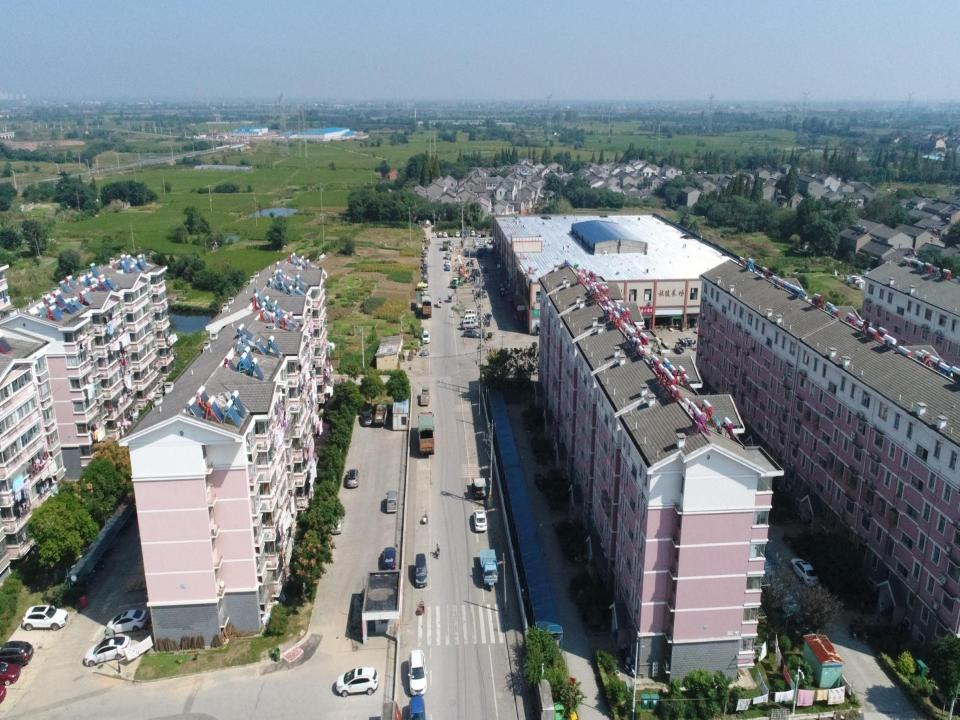car: (84, 633, 132, 667), (335, 665, 379, 698), (20, 604, 69, 632), (406, 648, 428, 696), (106, 608, 148, 632), (789, 556, 819, 588), (1, 640, 34, 665), (1, 661, 22, 685), (471, 508, 488, 534), (381, 546, 397, 573), (410, 694, 425, 719), (345, 468, 360, 489), (329, 513, 342, 535), (360, 408, 373, 428), (463, 328, 480, 338), (422, 330, 430, 344), (422, 263, 428, 273), (444, 258, 450, 266), (444, 264, 450, 271), (470, 229, 475, 237), (445, 251, 450, 259), (444, 259, 450, 265), (447, 239, 451, 247), (455, 231, 460, 237), (443, 232, 447, 237), (476, 233, 481, 237)
truck: (418, 411, 436, 456), (373, 403, 388, 427), (421, 294, 432, 318), (420, 385, 430, 406), (451, 276, 465, 288), (442, 239, 449, 249), (463, 229, 468, 237)
van: (414, 552, 429, 590), (385, 489, 398, 514), (461, 319, 479, 330), (462, 314, 476, 321), (464, 309, 475, 315), (423, 248, 428, 257), (438, 231, 442, 237), (424, 256, 428, 262)
